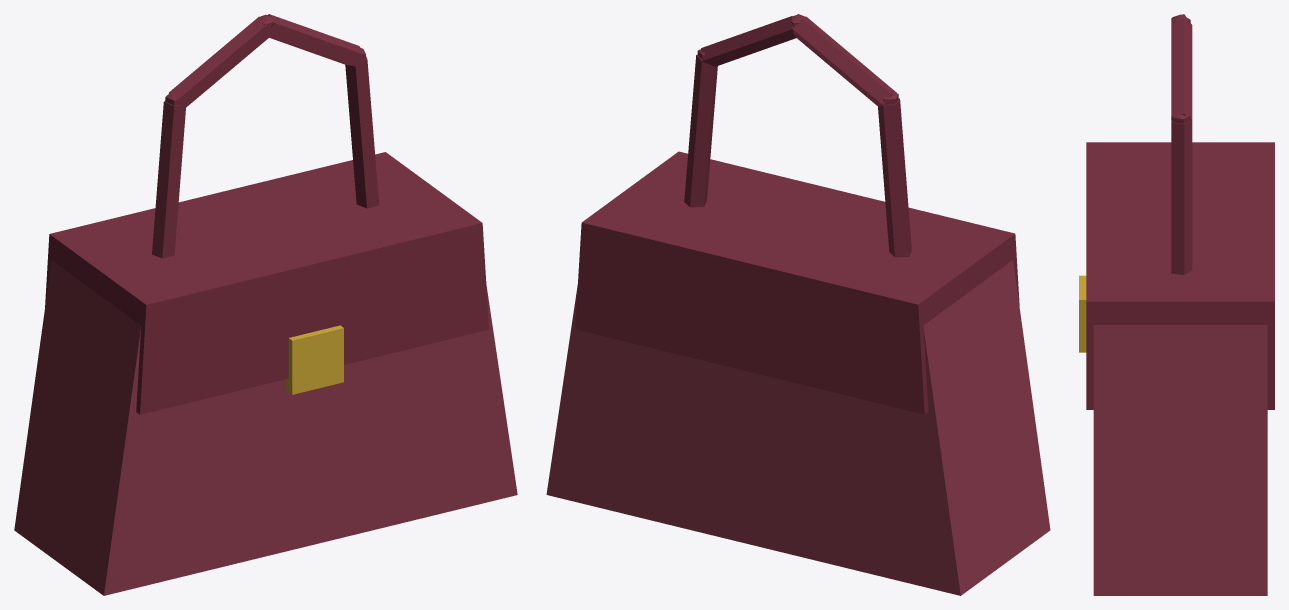
File: handbag.glb
The picture shows the model from 3 angles, left to right: view 1: azimuth 30°, elevation 25°; view 2: azimuth 150°, elevation 25°; view 3: azimuth 270°, elevation 25°; orthographic projection. The views are drawn at different scales.
Visible parts, largest first — view 1: handbag; view 2: handbag; view 3: handbag.
Boxes of the visible parts, bbox=[...] form: handbag: bbox=[14, 14, 517, 595]; handbag: bbox=[546, 14, 1050, 595]; handbag: bbox=[1079, 14, 1274, 595].
Bounding box in the file's own units: 0.32 × 0.368 × 0.135.
